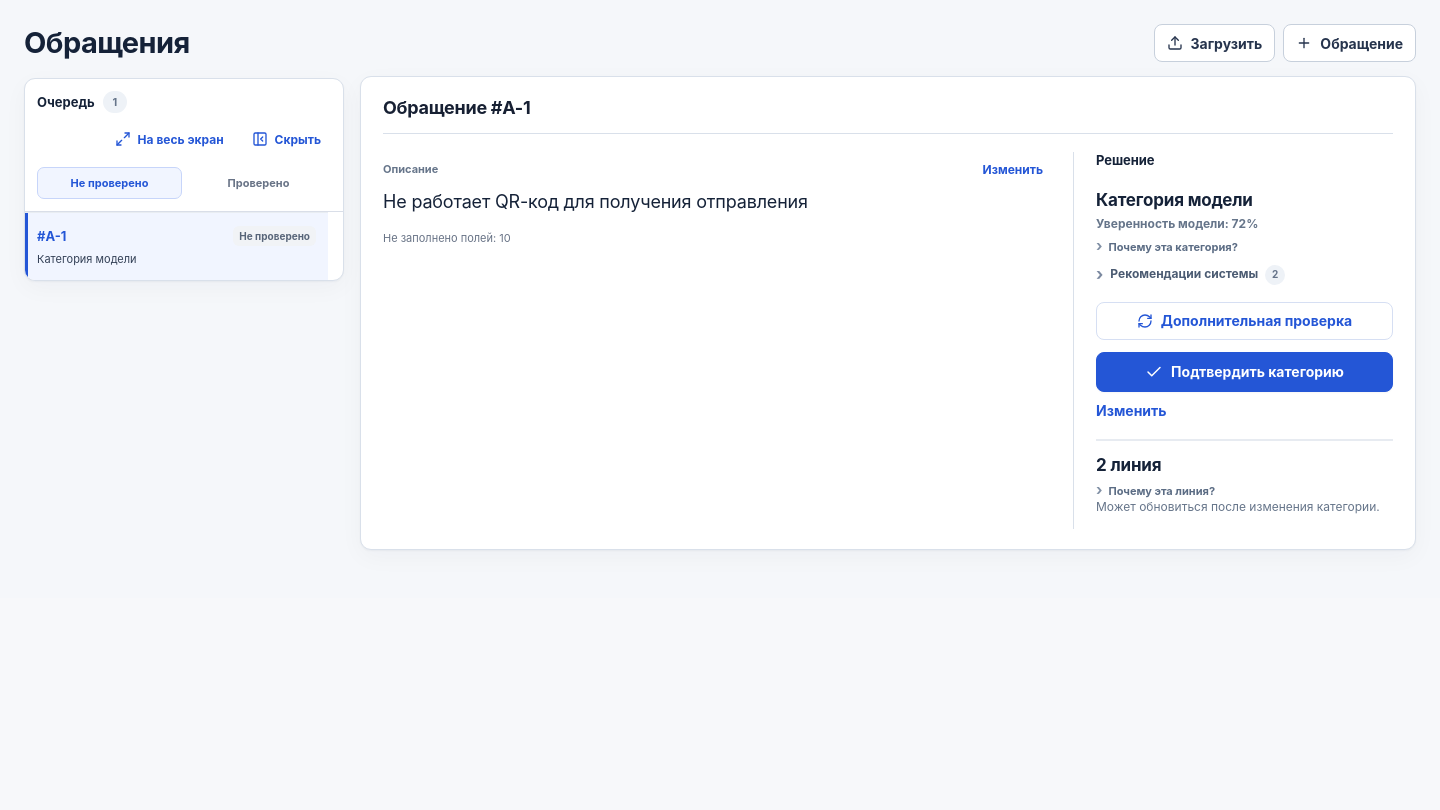
Scenario: lets the operator run an additional recommendation check without exposing the model name
The image size is (1440, 810).
Expected: the heading "Категория модели" is shown, [1096,190,1253,210]
Click the button "Дополнительная проверка": (1244, 321) [1096,302,1393,340]
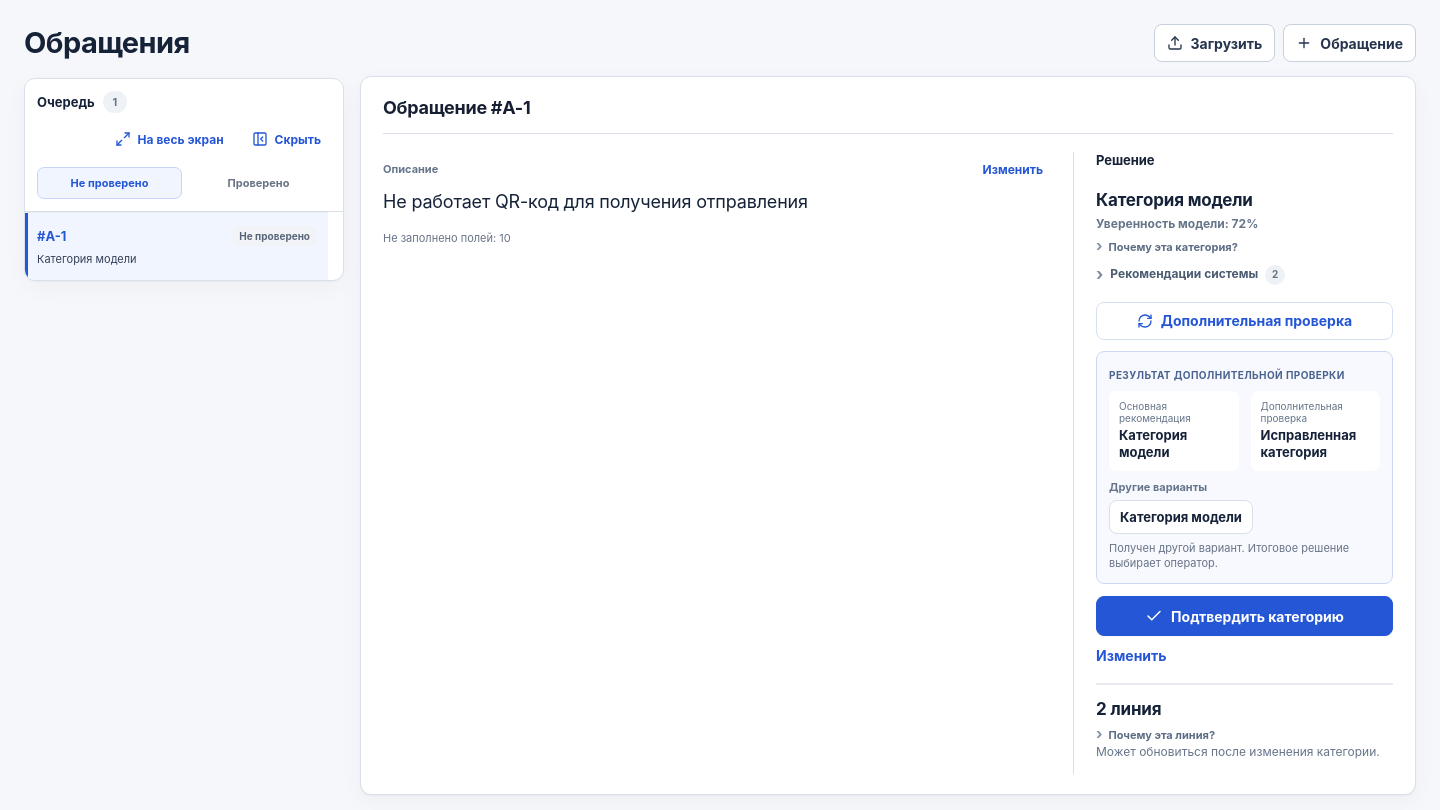
Expected: the heading "Категория модели" is shown, [1096,190,1253,210]
Now the text "Результат дополнительной проверки" is shown, box [1109,369,1345,381]
Now the heading "Исправленная категория" is shown, box [1260,427,1370,462]
